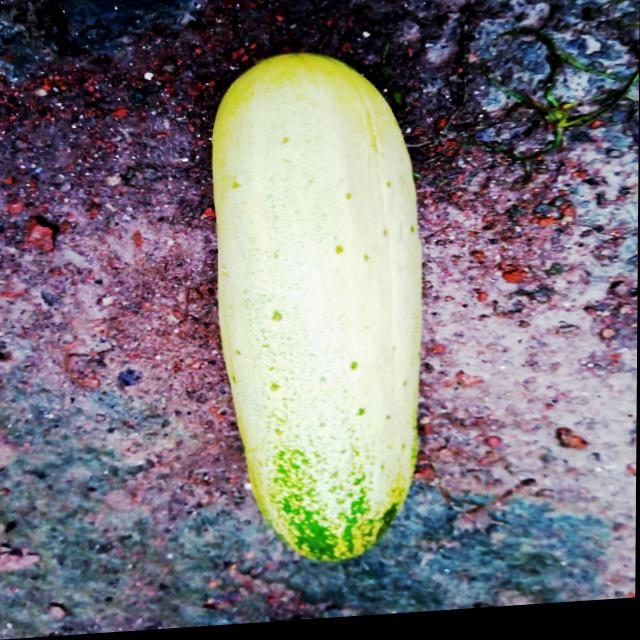Fresh-Cucumber: (206, 48, 428, 581)
